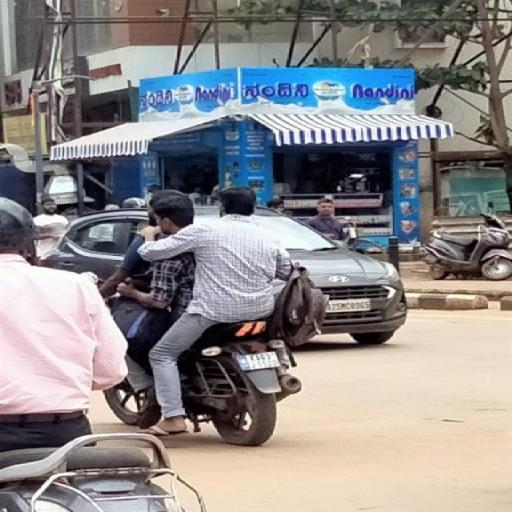tripple riding: (108, 185, 313, 327)
